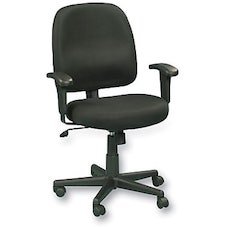chair: (41, 0, 179, 225)
